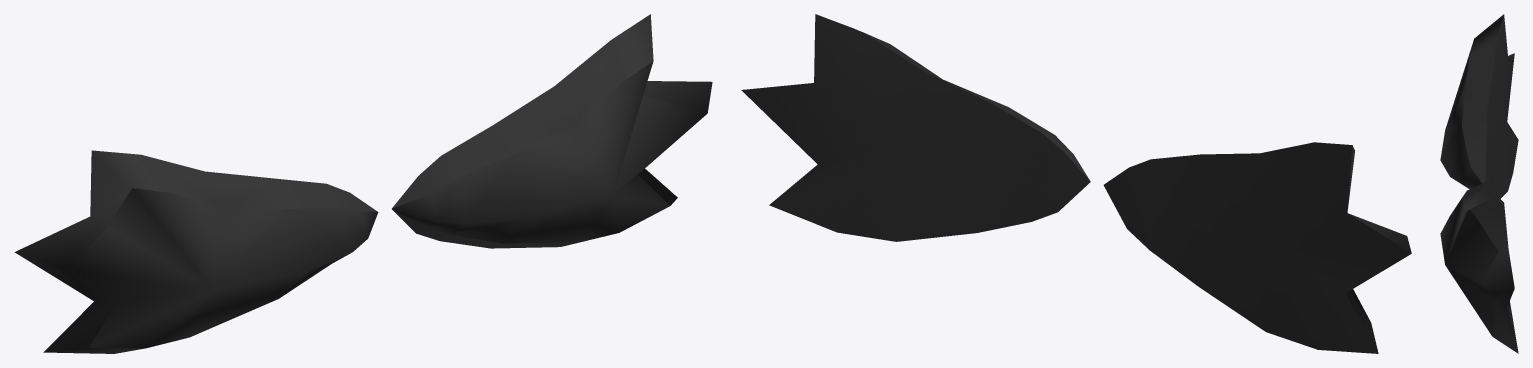
File: Beard_Black_8.fbx
3 views of the same model, side by side, from view 1: azimuth 30°, elevation 25°; view 2: azimuth 150°, elevation 25°; view 3: azimuth 270°, elevation 25° (orthographic). The views are drawn at different scales.
Visible parts, largest first — view 1: Beard_Black_8; view 2: Beard_Black_8; view 3: Beard_Black_8.
Boxes of the visible parts, x1,y1,x2,y2 form: Beard_Black_8: (14,14,712,353); Beard_Black_8: (741,14,1411,353); Beard_Black_8: (1440,14,1518,353).
Bounding box in the file's own units: 66.53 × 19.62 × 9.34.
